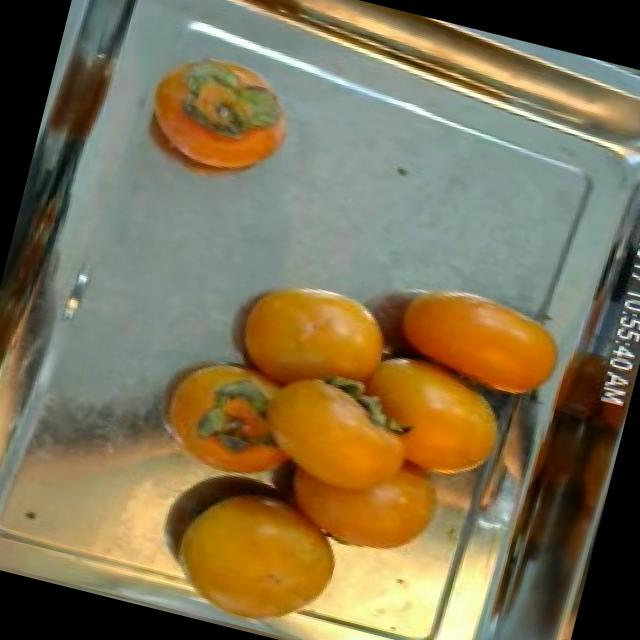Fruit: (131, 452, 371, 640), (202, 253, 412, 426), (118, 36, 314, 212), (374, 258, 582, 406)
